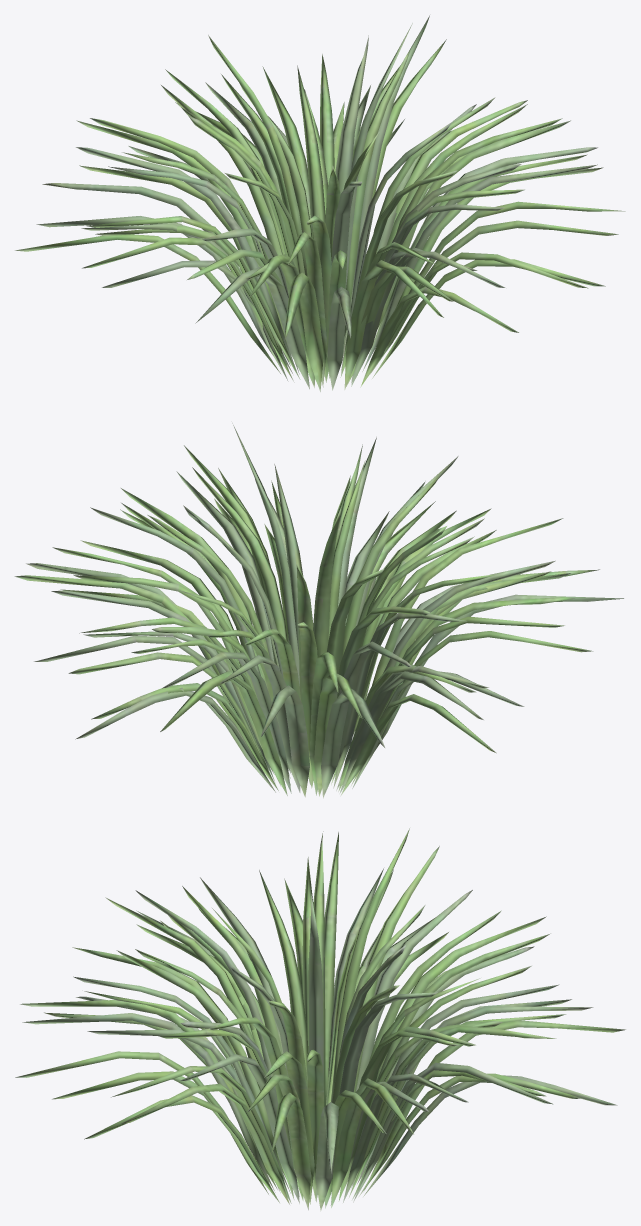
File: grass-clump.glb
The picture shows the model from 3 angles, top to bottom: view 1: azimuth 30°, elevation 25°; view 2: azimuth 150°, elevation 25°; view 3: azimuth 270°, elevation 25°; orthographic projection.
Parts seen in each view (by area): view 1: grass-clump_body; view 2: grass-clump_body; view 3: grass-clump_body.
Part boxes in pixels (x1,y1,x2,y2): grass-clump_body: [15, 15, 625, 391]; grass-clump_body: [14, 423, 623, 798]; grass-clump_body: [15, 828, 625, 1211].
Bounding box in the file's own units: 0.6573 × 0.3881 × 0.6354.
1 material, 1 textured.
